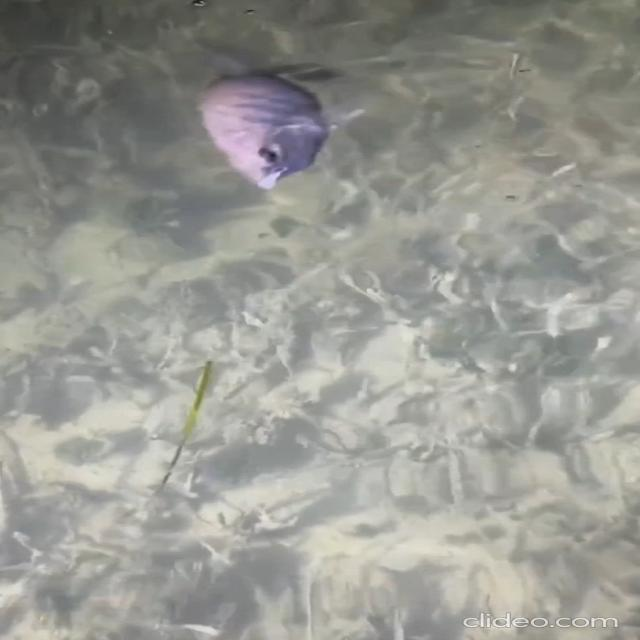fish: (192, 55, 397, 206)
